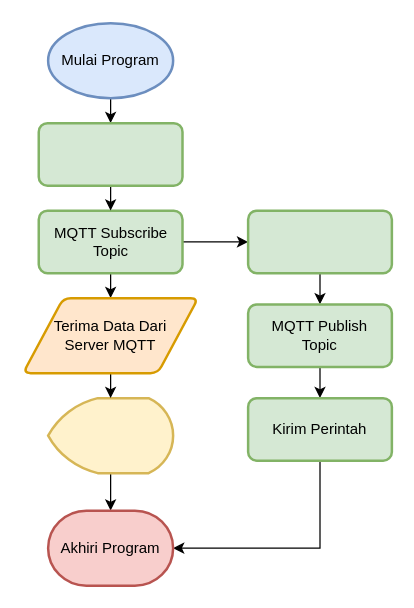
Some shapes in this 414 by 608 pixel diagram are drawn without their labels. Each missing label, with the centre of its shape:
"Pilih Menu Perintah" goes at [319,241].
"Sambungkan Ke Server MQTT" goes at [110,153].
"Tampilkan Data" goes at [110,435].
